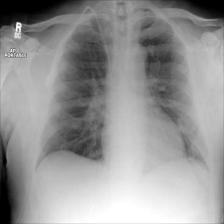normal: (31, 4, 215, 181)
